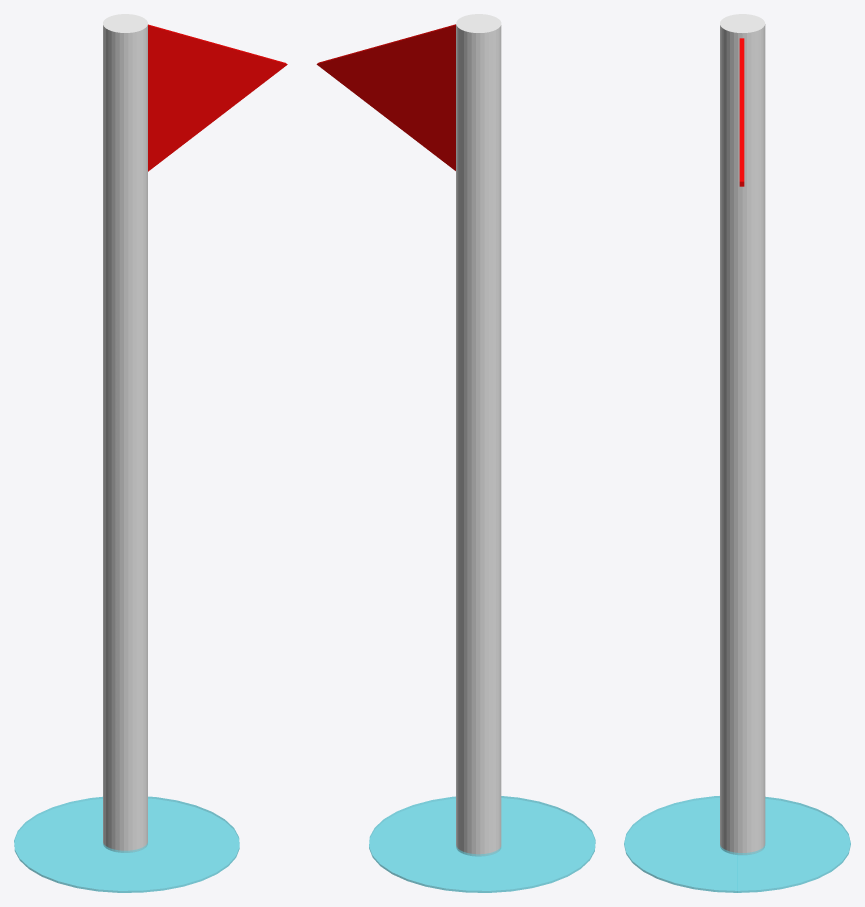
File: flag.dae
3 renders of one model, left to right at view 1: azimuth 30°, elevation 25°; view 2: azimuth 150°, elevation 25°; view 3: azimuth 270°, elevation 25°, orthographic.
Visible parts, largest first — view 1: Cylinder, Cylinder_001, flag; view 2: Cylinder, Cylinder_001, flag; view 3: Cylinder, Cylinder_001, flag.
Part boxes in pixels (x1=…): Cylinder: x1=103, y1=14, x2=147, y2=852; Cylinder_001: x1=14, y1=796, x2=239, y2=892; flag: x1=148, y1=24, x2=287, y2=171; Cylinder: x1=456, y1=14, x2=501, y2=856; Cylinder_001: x1=369, y1=796, x2=595, y2=892; flag: x1=316, y1=24, x2=455, y2=170; Cylinder: x1=720, y1=14, x2=765, y2=854; Cylinder_001: x1=624, y1=796, x2=850, y2=892; flag: x1=739, y1=38, x2=744, y2=186.
Size of the model in its own units: 0.6633 by 0.5 by 2.
